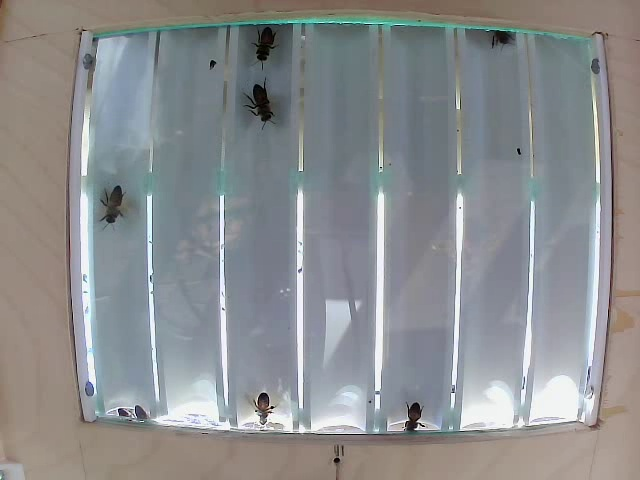bee: (237, 77, 280, 131), (96, 183, 134, 220), (246, 28, 284, 63), (251, 380, 283, 417)
